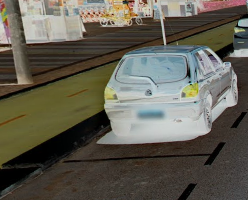car: (102, 39, 240, 144)
